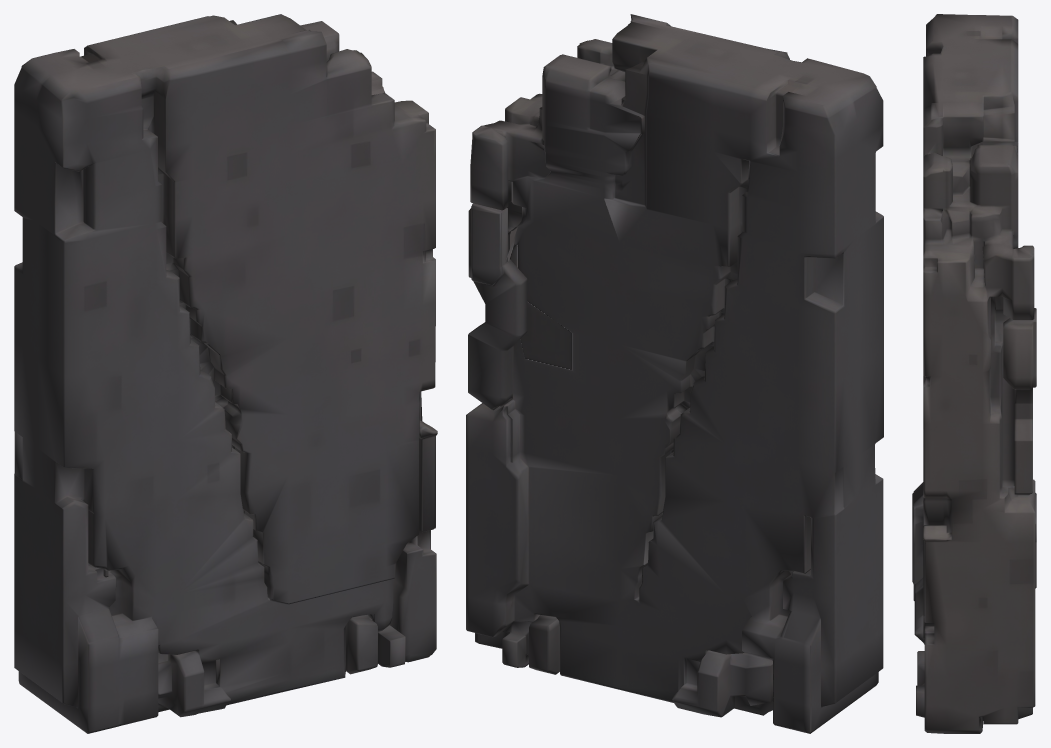
The model's file is slab_concrete.glb.
3 renders of one model, left to right at view 1: azimuth 30°, elevation 25°; view 2: azimuth 150°, elevation 25°; view 3: azimuth 270°, elevation 25°, orthographic. The views are drawn at different scales.
Parts seen in each view (by area): view 1: tripo_node_305763ef-1dd1-425d-b210-745ec5995238; view 2: tripo_node_305763ef-1dd1-425d-b210-745ec5995238; view 3: tripo_node_305763ef-1dd1-425d-b210-745ec5995238.
Part boxes in pixels (left/top/right/bottom): tripo_node_305763ef-1dd1-425d-b210-745ec5995238: left=14, top=14, right=437, bottom=733; tripo_node_305763ef-1dd1-425d-b210-745ec5995238: left=466, top=14, right=883, bottom=733; tripo_node_305763ef-1dd1-425d-b210-745ec5995238: left=912, top=14, right=1036, bottom=733.
Bounding box in the file's own units: 0.5969 × 0.998 × 0.1977.
1 material, 1 textured.
